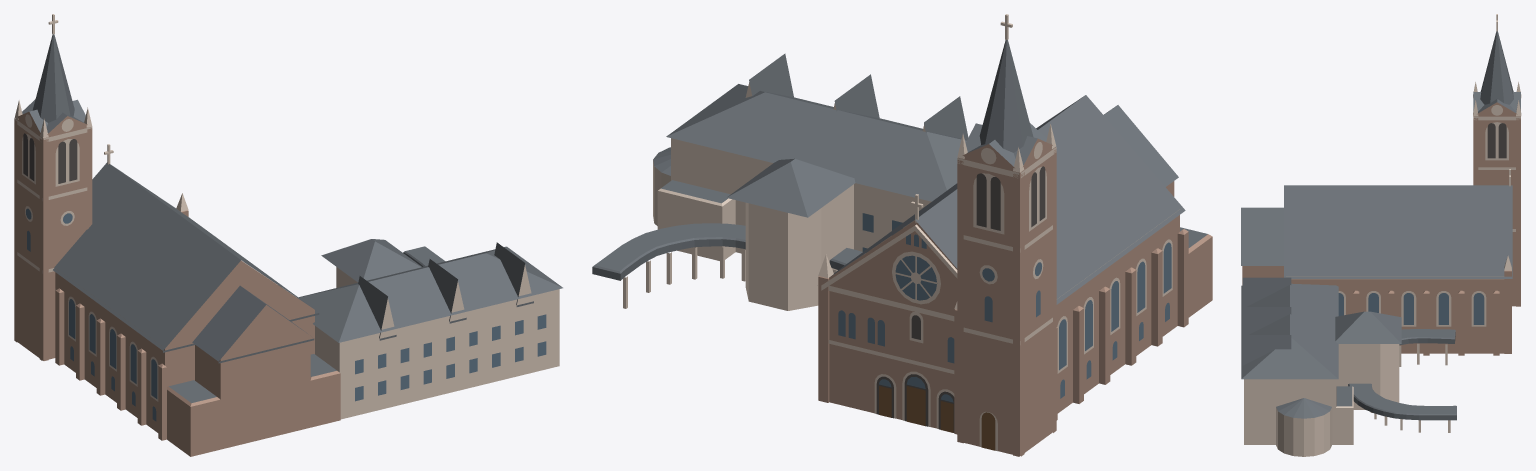
The model's file is den-st-elizabeth-of-hungary.glb.
The picture shows the model from 3 angles, left to right: view 1: azimuth 30°, elevation 25°; view 2: azimuth 150°, elevation 25°; view 3: azimuth 270°, elevation 25°; orthographic projection. The views are drawn at different scales.
Visible parts, largest first — view 1: St. Elizabeth of Hungary Church; view 2: St. Elizabeth of Hungary Church; view 3: St. Elizabeth of Hungary Church.
Boxes of the visible parts, x1,y1,x2,y2 form: St. Elizabeth of Hungary Church: (14, 14, 562, 456); St. Elizabeth of Hungary Church: (592, 14, 1212, 456); St. Elizabeth of Hungary Church: (1241, 14, 1521, 456).
Bounding box in the file's own units: 57.62 × 44.2 × 39.92.
